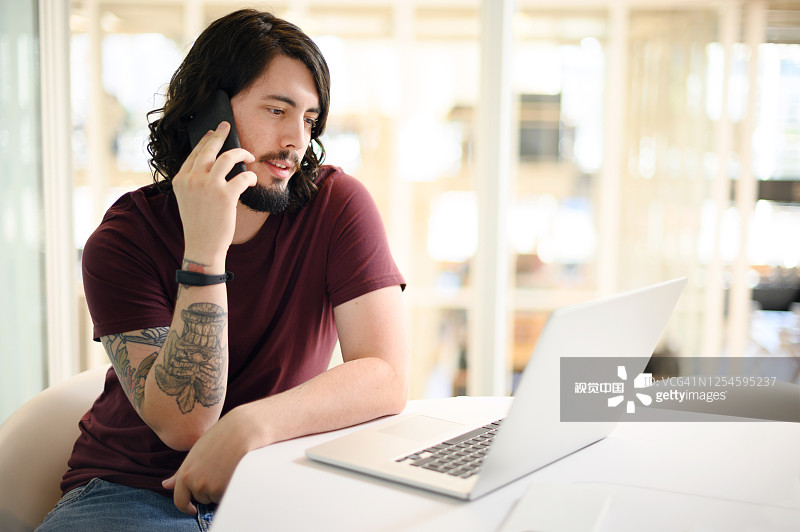calling: (153, 107, 266, 278)
